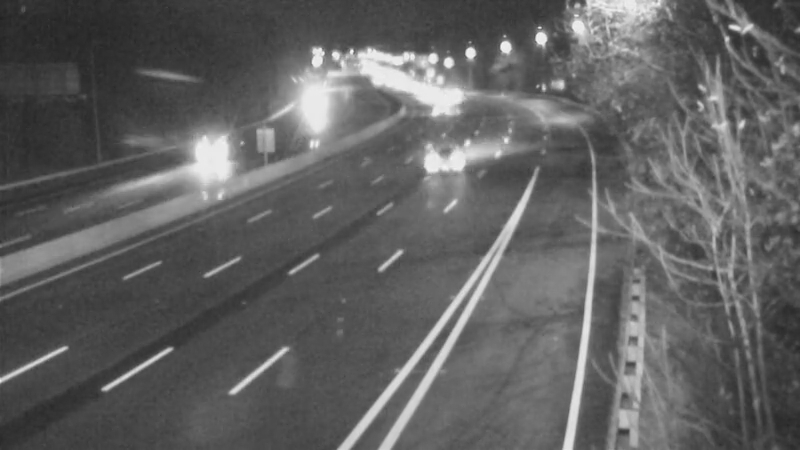vehicle: (403, 116, 483, 196), (172, 111, 252, 191), (430, 73, 480, 123), (420, 84, 470, 134), (292, 88, 342, 138)
